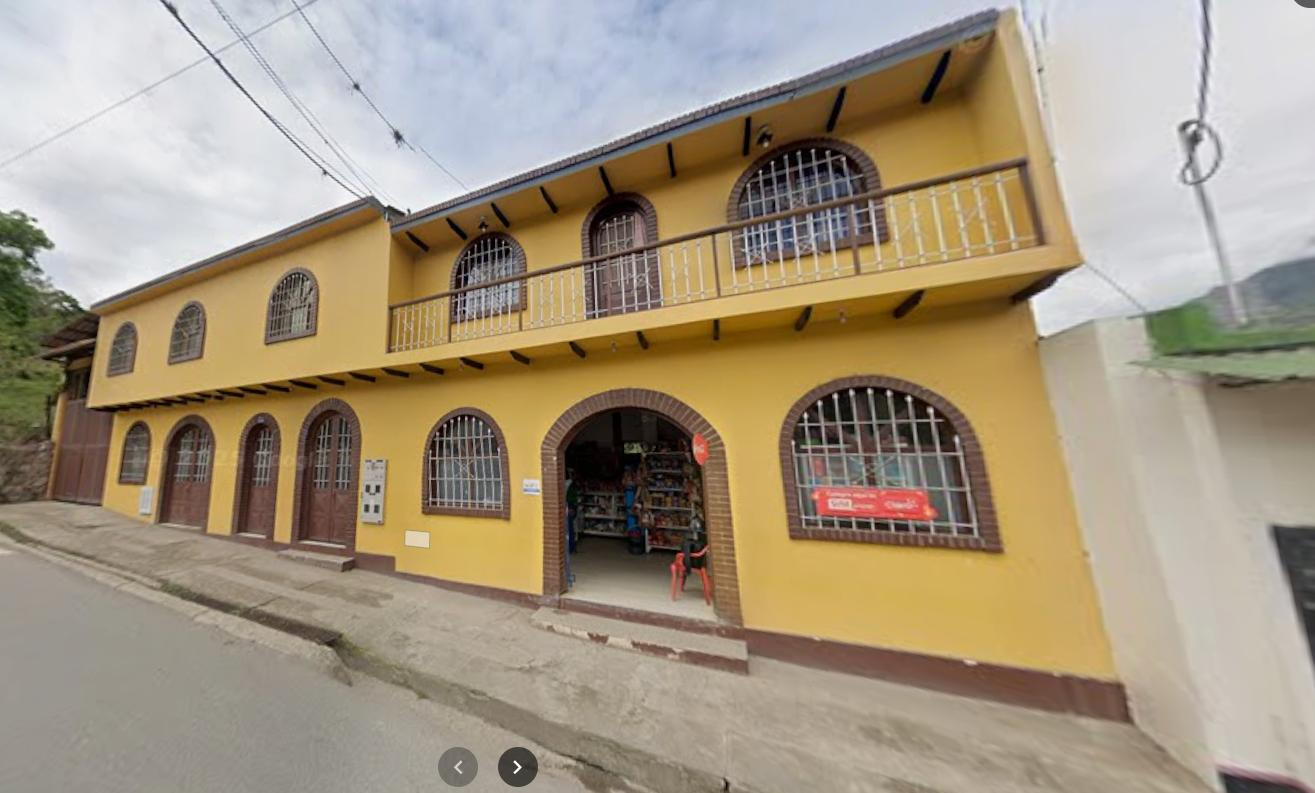casa: (68, 12, 1132, 720)
